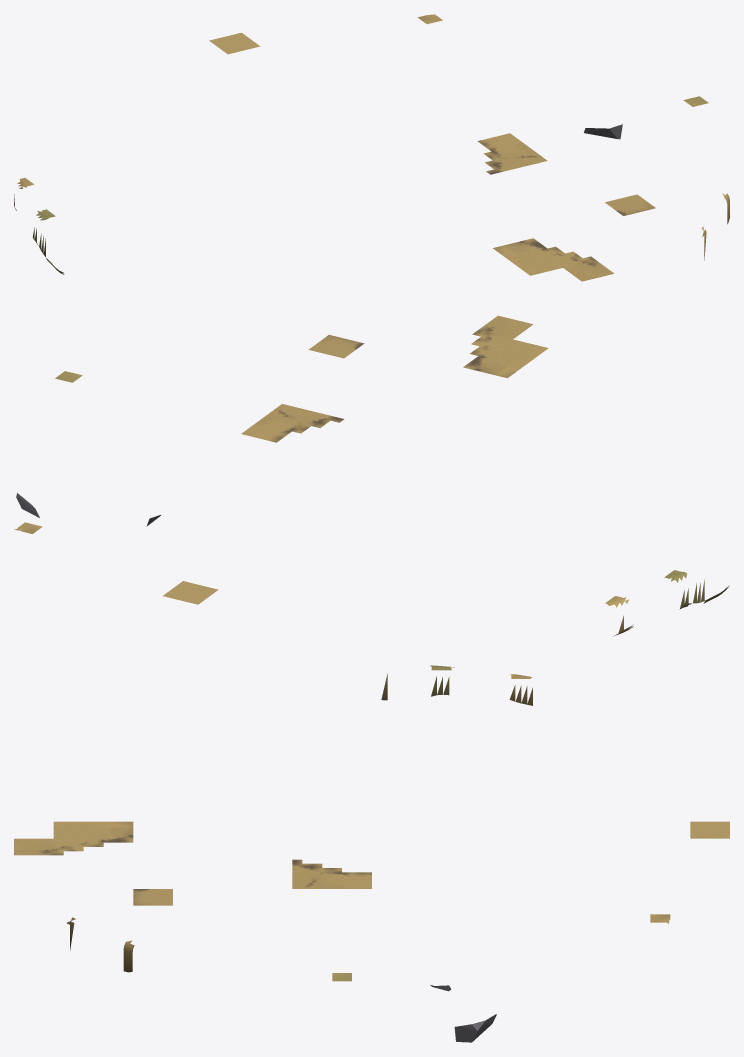
3 views of the same model, one above another, from view 1: azimuth 30°, elevation 25°; view 2: azimuth 150°, elevation 25°; view 3: azimuth 270°, elevation 25° (orthographic). The views are drawn at different scales.
Parts seen in each view (by area): view 1: Grass_0_-4_0, Grass_1_-1_0, Grass_0_-5_0_110, Grass_0_4_0_000, Grass_2_-3_0_000; view 2: Grass_0_-4_0, Grass_1_-1_0, Grass_2_-3_0_000, Grass_0_4_0_000, Grass_0_-5_0_110; view 3: Grass_0_-4_0, Grass_1_-1_0, Grass_0_-5_0_110, Grass_0_4_0_000, Grass_2_-3_0_000.
Boxes of the visible parts, bbox=[...] form: Grass_0_-4_0: bbox=[493, 238, 595, 275]; Grass_1_-1_0: bbox=[477, 133, 547, 174]; Grass_0_-5_0_110: bbox=[563, 260, 614, 281]; Grass_0_4_0_000: bbox=[209, 32, 260, 54]; Grass_2_-3_0_000: bbox=[605, 194, 655, 215]; Grass_0_-4_0: bbox=[463, 330, 548, 378]; Grass_1_-1_0: bbox=[241, 404, 344, 442]; Grass_2_-3_0_000: bbox=[308, 335, 364, 358]; Grass_0_4_0_000: bbox=[163, 581, 218, 604]; Grass_0_-5_0_110: bbox=[478, 315, 532, 339]; Grass_0_-4_0: bbox=[53, 821, 133, 855]; Grass_1_-1_0: bbox=[292, 859, 371, 888]; Grass_0_-5_0_110: bbox=[14, 838, 53, 855]; Grass_0_4_0_000: bbox=[690, 821, 729, 838]; Grass_2_-3_0_000: bbox=[133, 889, 172, 905].
Size of the model in its own units: 613 by 67.15 by 576.
Materials: 15 (15 with a texture image).
